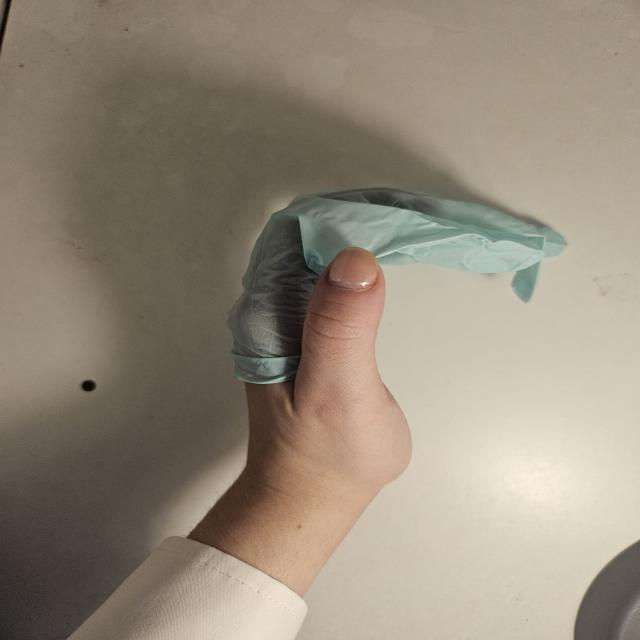glove_partial: (226, 184, 570, 486)
